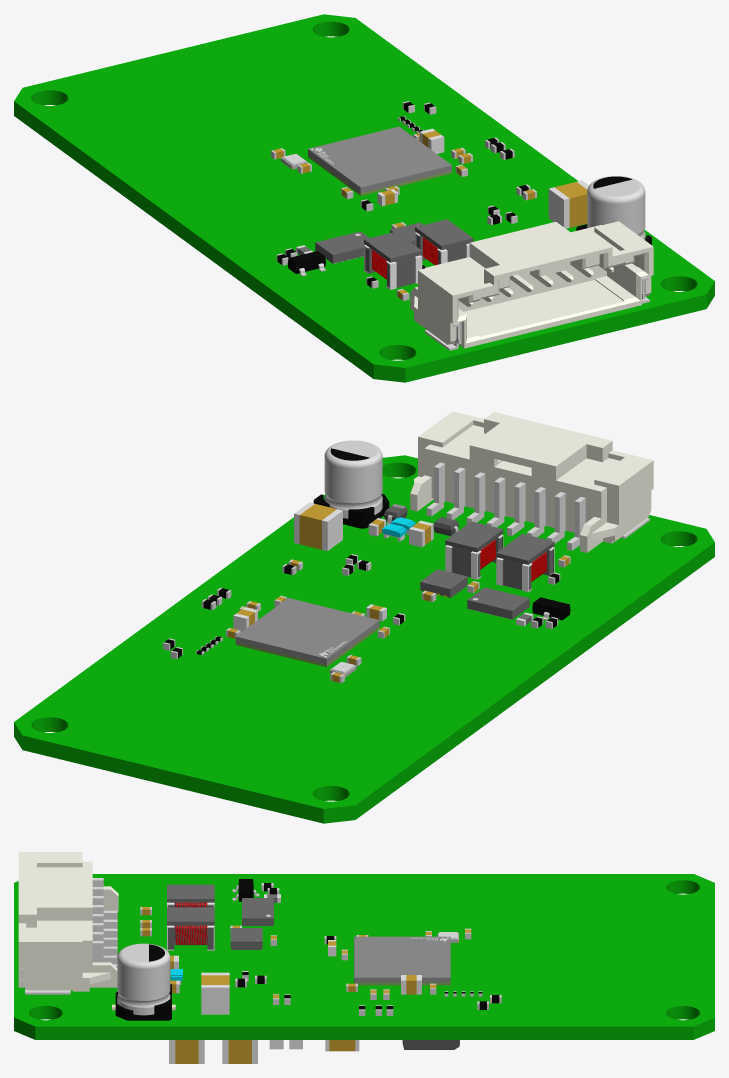
The picture shows the model from 3 angles, top to bottom: view 1: azimuth 30°, elevation 25°; view 2: azimuth 150°, elevation 25°; view 3: azimuth 270°, elevation 25°; orthographic projection. The views are drawn at different scales.
Visible parts, largest first — view 1: Node16, Node33, Node5, Node4, Node3, Node38, Node23, Node10, Node31, Node2; view 2: Node16, Node33, Node3, Node5, Node4, Node15, Node38, Node23, Node10, Node31; view 3: Node16, Node33, Node3, Node5, Node4, Node23, Node10, Node15, Node38, Node2, Node6.
Boxes of the visible parts, box(x1,y1,x2,y2) form: Node16: box(14, 14, 714, 382); Node33: box(410, 221, 653, 348); Node5: box(308, 126, 451, 192); Node4: box(315, 219, 473, 288); Node3: box(271, 101, 645, 300); Node38: box(277, 102, 651, 287); Node23: box(273, 130, 587, 299); Node10: box(296, 128, 588, 253); Node31: box(293, 158, 469, 289); Node2: box(371, 237, 438, 279); Node16: box(14, 455, 714, 823); Node33: box(410, 411, 653, 552); Node3: box(163, 440, 570, 683); Node5: box(235, 598, 379, 664); Node4: box(420, 521, 553, 619); Node15: box(426, 462, 649, 619); Node38: box(164, 448, 570, 657); Node23: box(228, 504, 569, 682); Node10: box(233, 502, 533, 632); Node31: box(341, 534, 554, 667); Node16: box(14, 874, 714, 1039); Node33: box(18, 852, 118, 991); Node3: box(117, 883, 501, 1015); Node5: box(354, 936, 450, 982); Node4: box(167, 884, 273, 949); Node23: box(142, 907, 471, 1063); Node10: box(169, 894, 421, 1063); Node15: box(21, 878, 117, 994); Node38: box(115, 879, 499, 1020); Node2: box(175, 902, 207, 945); Node6: box(402, 1040, 459, 1049).
Size of the model in its own units: 34 by 10.63 by 66.
